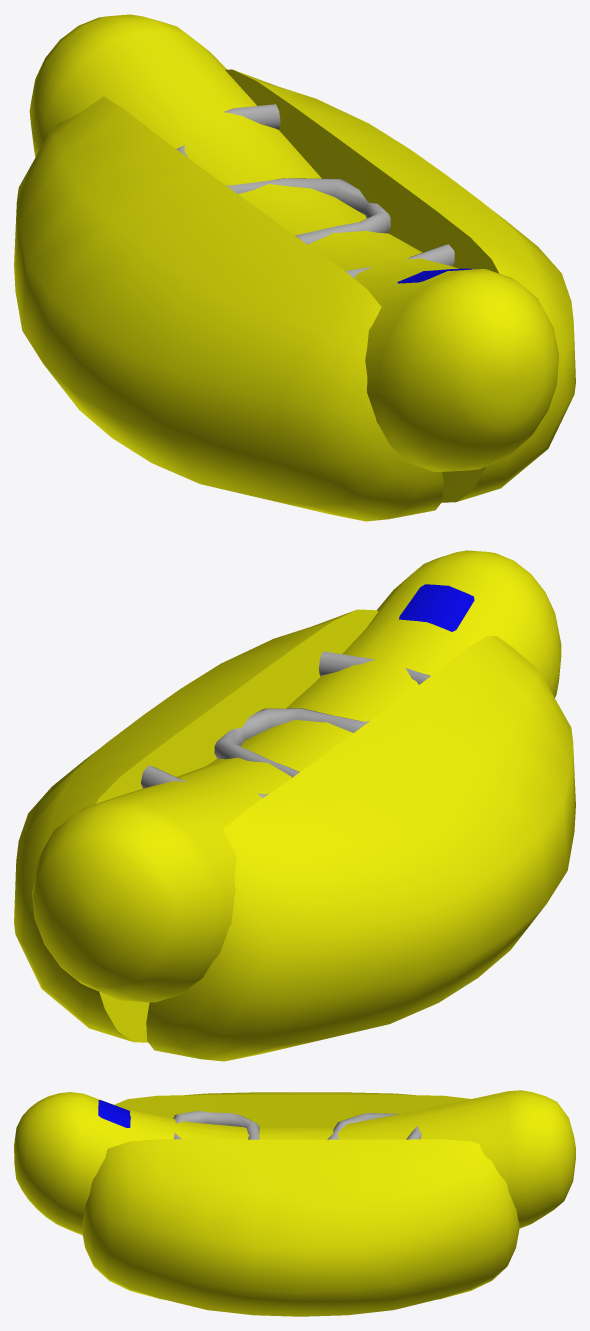
File: HotDog.fbx
3 renders of one model, top to bottom at view 1: azimuth 30°, elevation 25°; view 2: azimuth 150°, elevation 25°; view 3: azimuth 270°, elevation 25°, orthographic. The views are drawn at different scales.
Parts seen in each view (by area): view 1: HotDog_Outline4, HotDog_obj; view 2: HotDog_Outline4, HotDog_obj, HotDog_Outline2; view 3: HotDog_Outline4, HotDog_obj, HotDog_Outline2.
Boxes of the visible parts, x1,y1,x2,y2 form: HotDog_Outline4: [14, 14, 575, 521]; HotDog_obj: [176, 104, 454, 277]; HotDog_Outline4: [14, 550, 575, 1061]; HotDog_obj: [141, 651, 430, 798]; HotDog_Outline2: [399, 584, 474, 631]; HotDog_Outline4: [14, 1090, 575, 1316]; HotDog_obj: [173, 1110, 421, 1139]; HotDog_Outline2: [98, 1100, 130, 1127].
Bounding box in the file's own units: 136 × 81.8 × 230.
